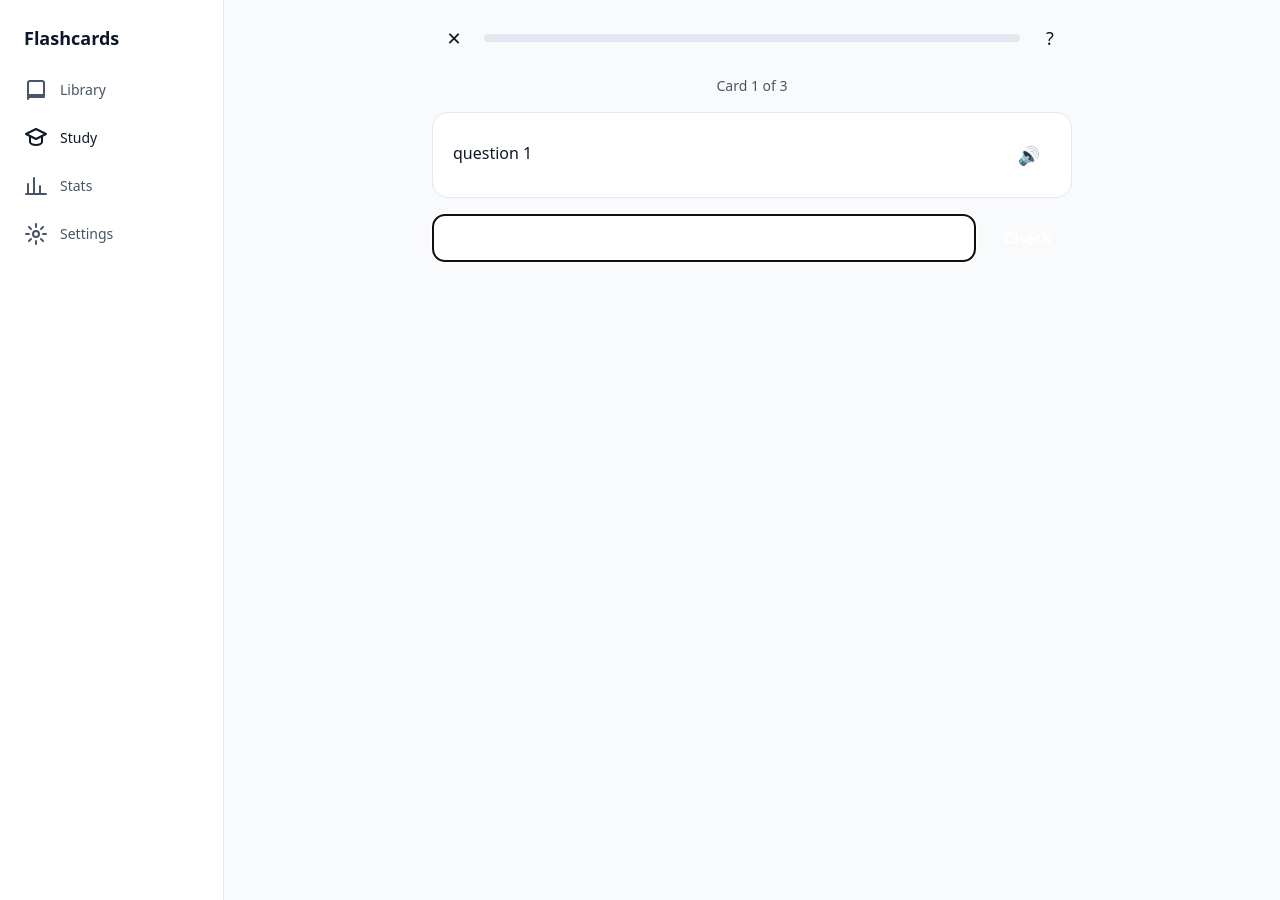
Test: trouble detection outside Learn › a wrong typed answer flags the card
The width and height of the screenshot is (1280, 900).
Type "nonsense" into the field named "Your answer" at (704, 238), box [432,214,976,262]
Then press Enter
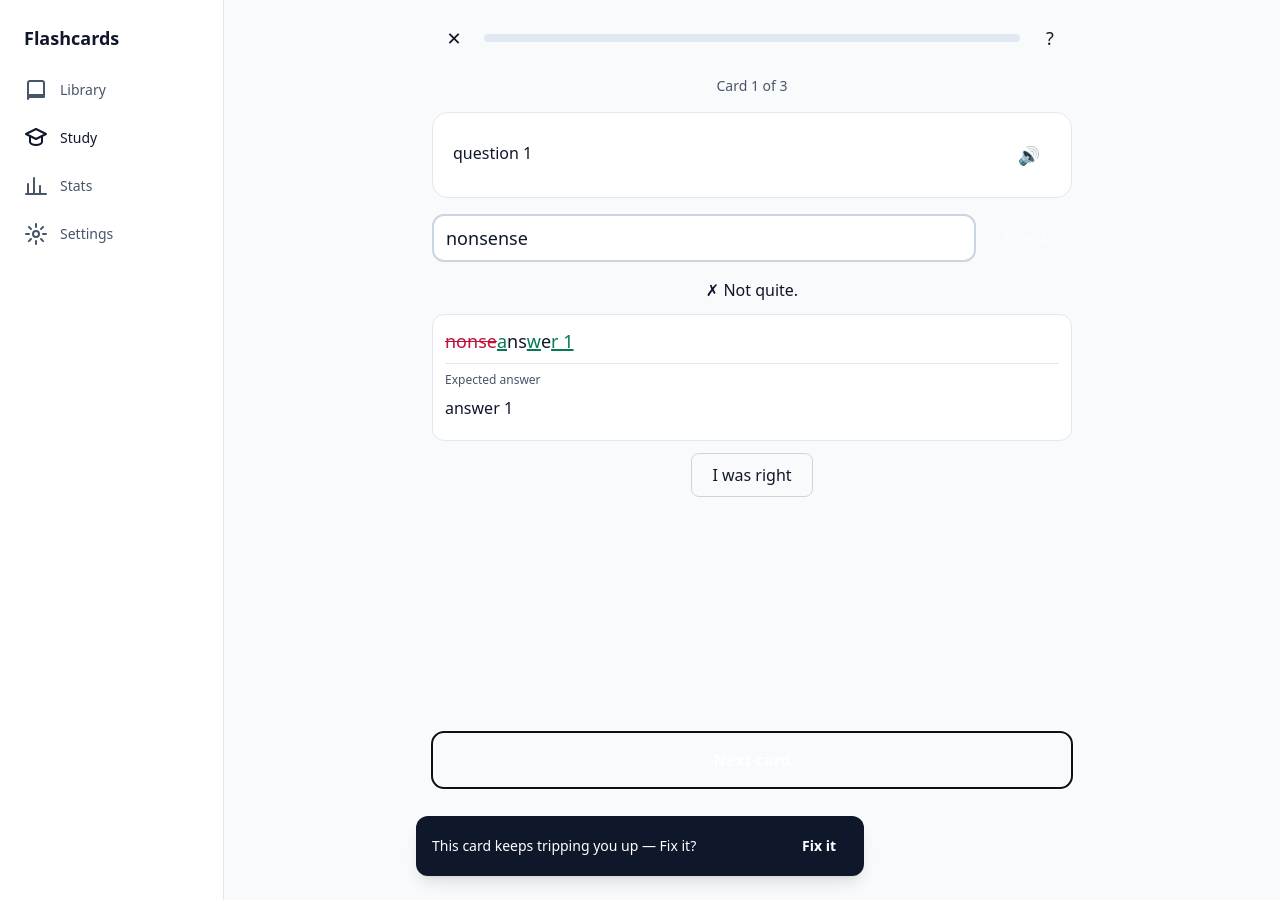
Expected: the text "This card keeps tripping you up — Fix it?" is shown, [432,836,696,856]
